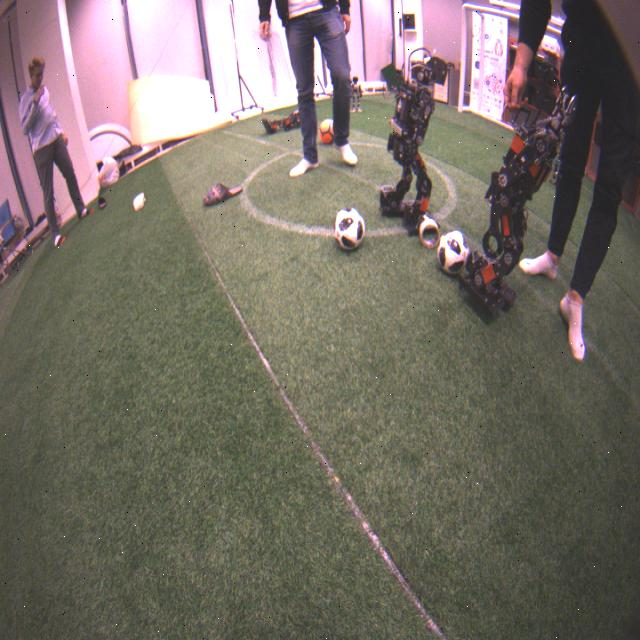ball: (437, 231, 470, 276), (334, 208, 366, 248), (319, 118, 336, 144)
goalpost: (458, 3, 470, 112)
